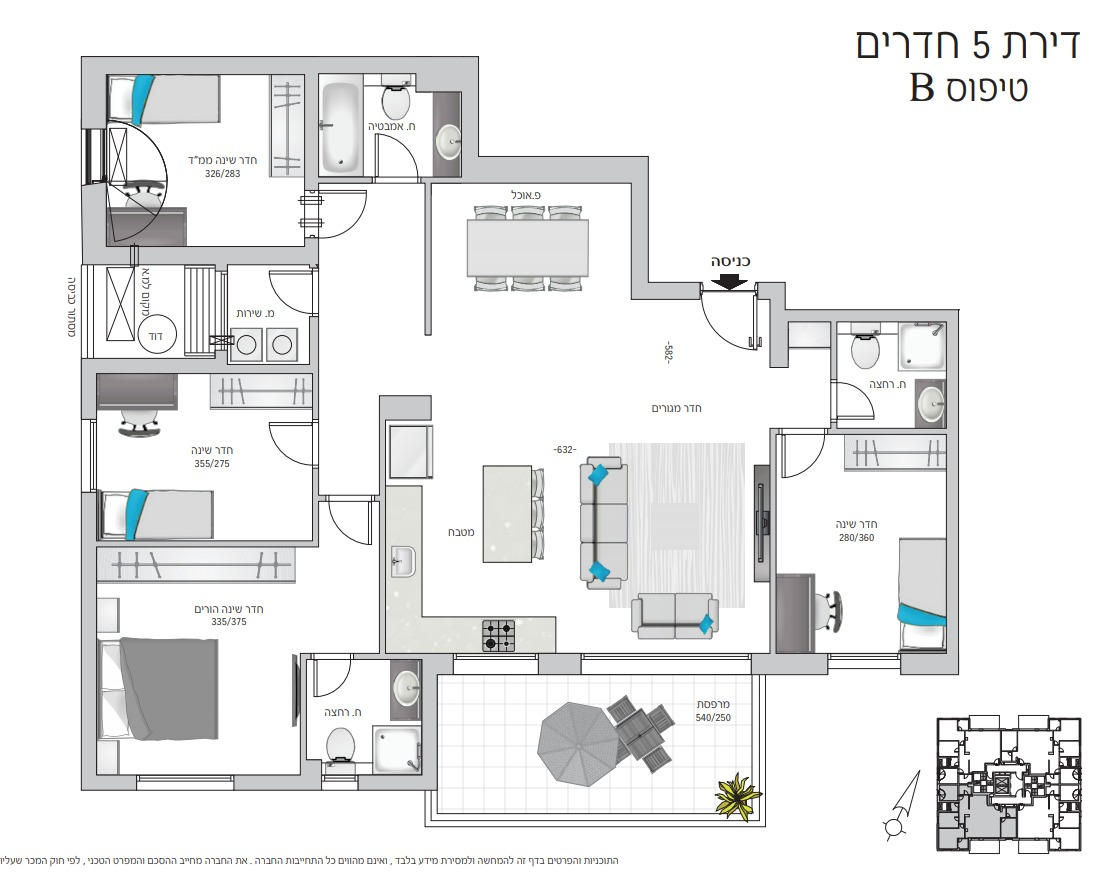door: (698, 300, 760, 350), (322, 187, 370, 238), (370, 129, 421, 174), (323, 503, 375, 547), (309, 660, 361, 704), (777, 436, 829, 480), (839, 381, 891, 425), (264, 418, 309, 468), (262, 267, 307, 315)
wall: (81, 54, 413, 73), (81, 493, 98, 790), (946, 309, 959, 675), (478, 157, 649, 184), (769, 309, 945, 321)
window: (580, 653, 751, 676), (452, 652, 537, 673), (826, 652, 900, 674), (135, 775, 234, 790), (80, 418, 96, 491), (320, 774, 358, 791)
